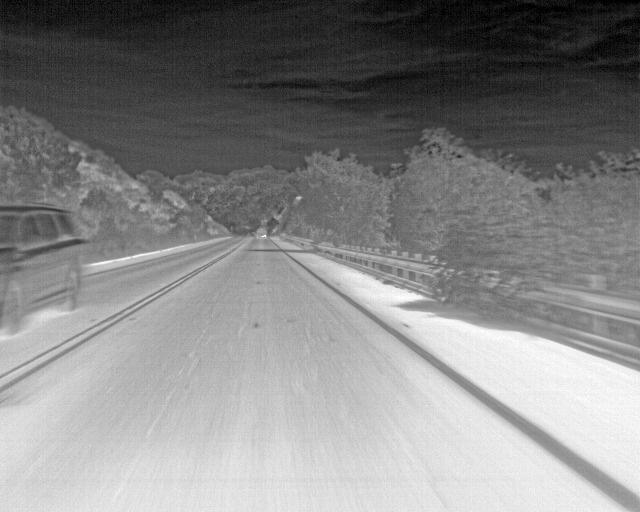car: (0, 203, 86, 336), (254, 226, 268, 239)
